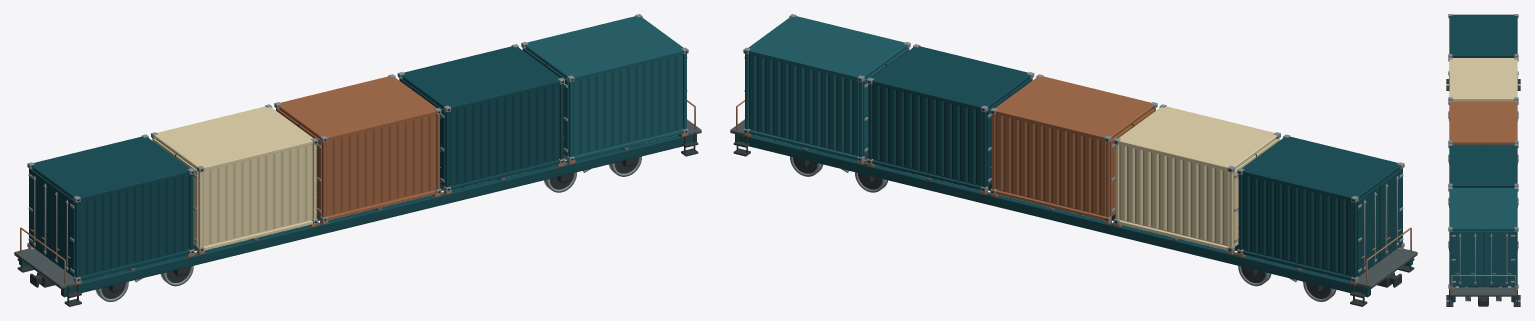
The model's file is freight-middle.glb.
3 views of the same model, side by side, from view 1: azimuth 30°, elevation 25°; view 2: azimuth 150°, elevation 25°; view 3: azimuth 270°, elevation 25° (orthographic). The views are drawn at different scales.
Parts seen in each view (by area): view 1: body, bogieFront, bogieBack; view 2: body, bogieFront, bogieBack; view 3: body, bogieFront.
Boxes of the visible parts, <box> form: body: <box>14,14,701,306</box>; bogieFront: <box>544,154,641,192</box>; bogieBack: <box>95,266,193,301</box>; body: <box>730,14,1417,306</box>; bogieFront: <box>790,154,887,192</box>; bogieBack: <box>1238,266,1336,301</box>; body: <box>1446,14,1520,306</box>; bogieFront: <box>1459,286,1507,301</box>.
Size of the model in its own units: 20 by 3.63 by 2.77.
